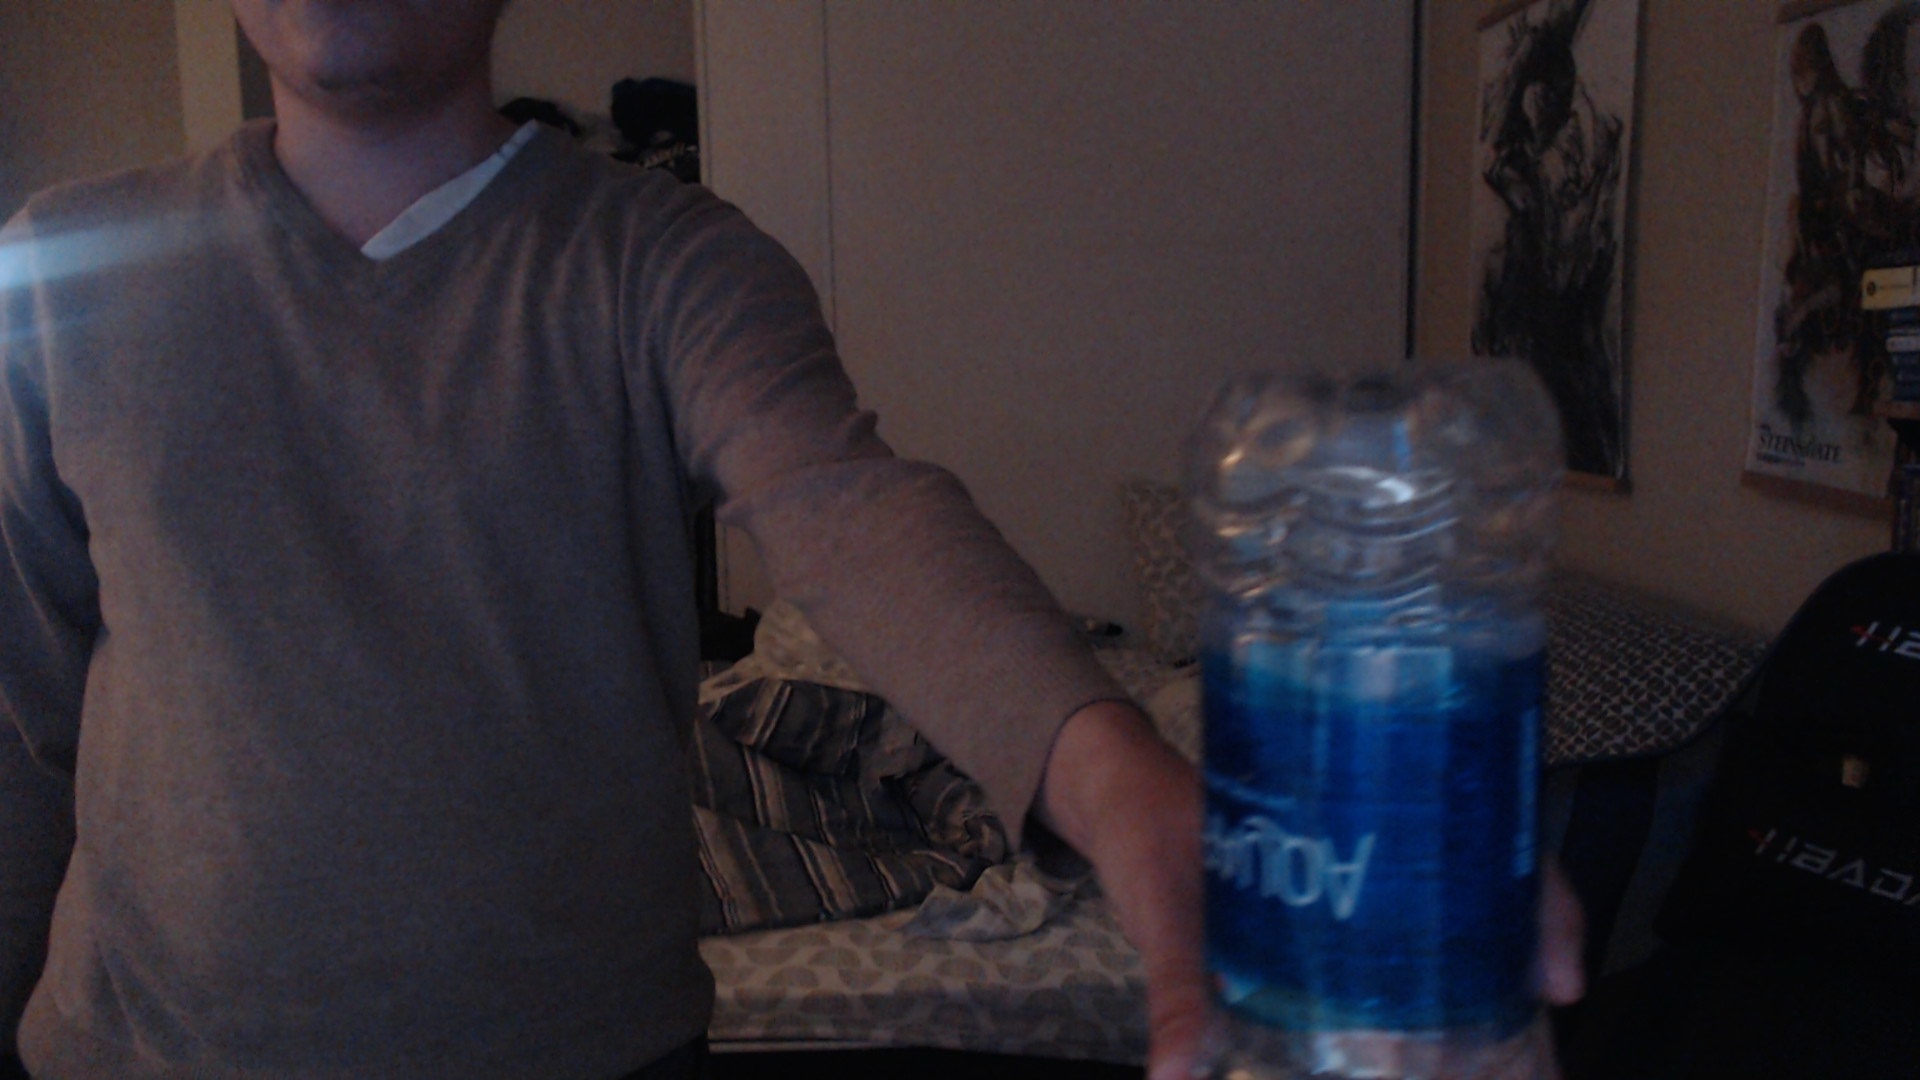bottle: (1168, 349, 1556, 1080)
